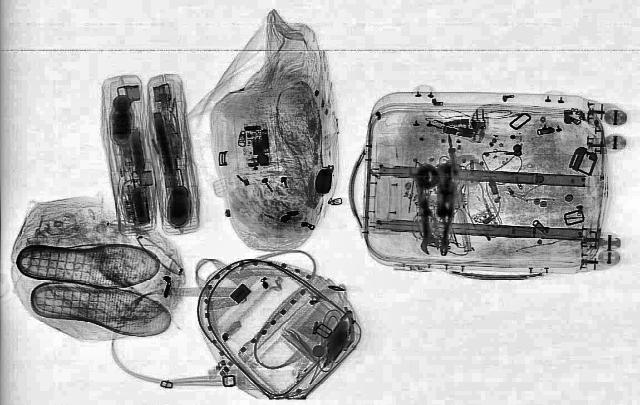Wrench: (406, 160, 444, 254)
